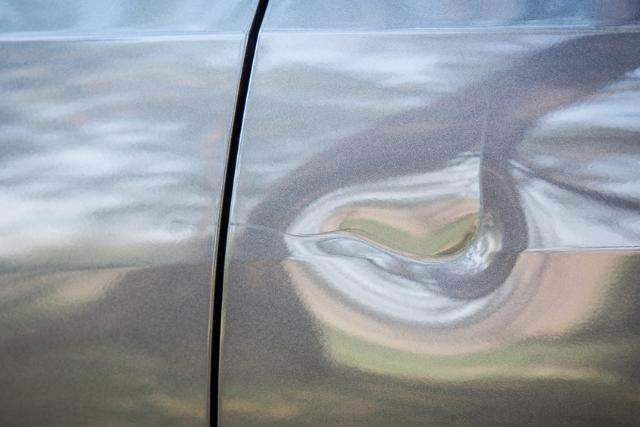Door: (248, 136, 556, 358)
